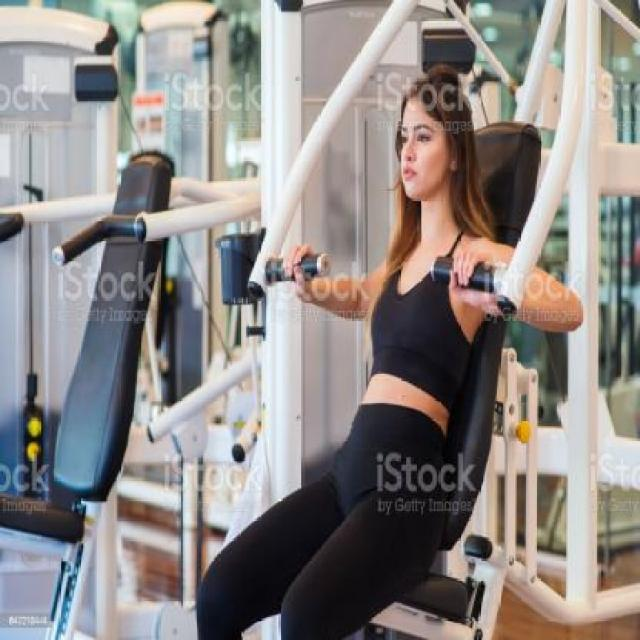Chest Press machine: (187, 0, 598, 640)
